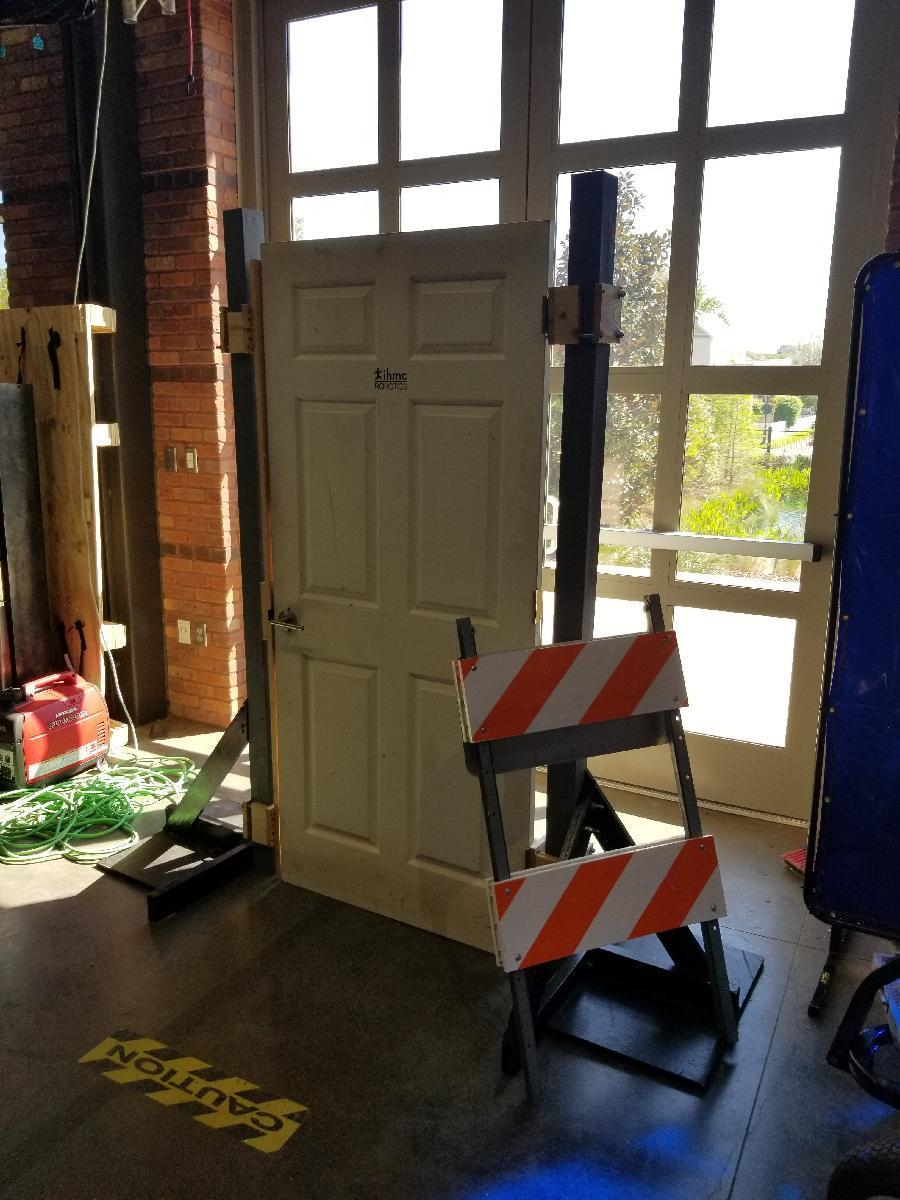door: (266, 251, 548, 940)
handle: (269, 606, 310, 637)
